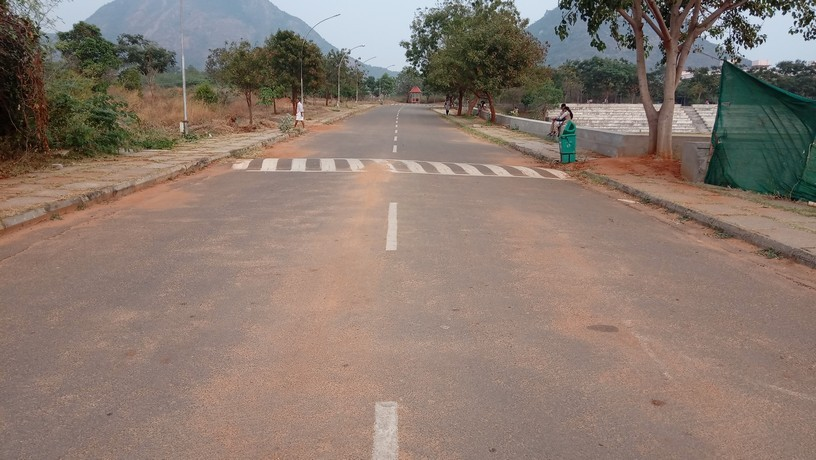bump: (222, 154, 569, 179)
